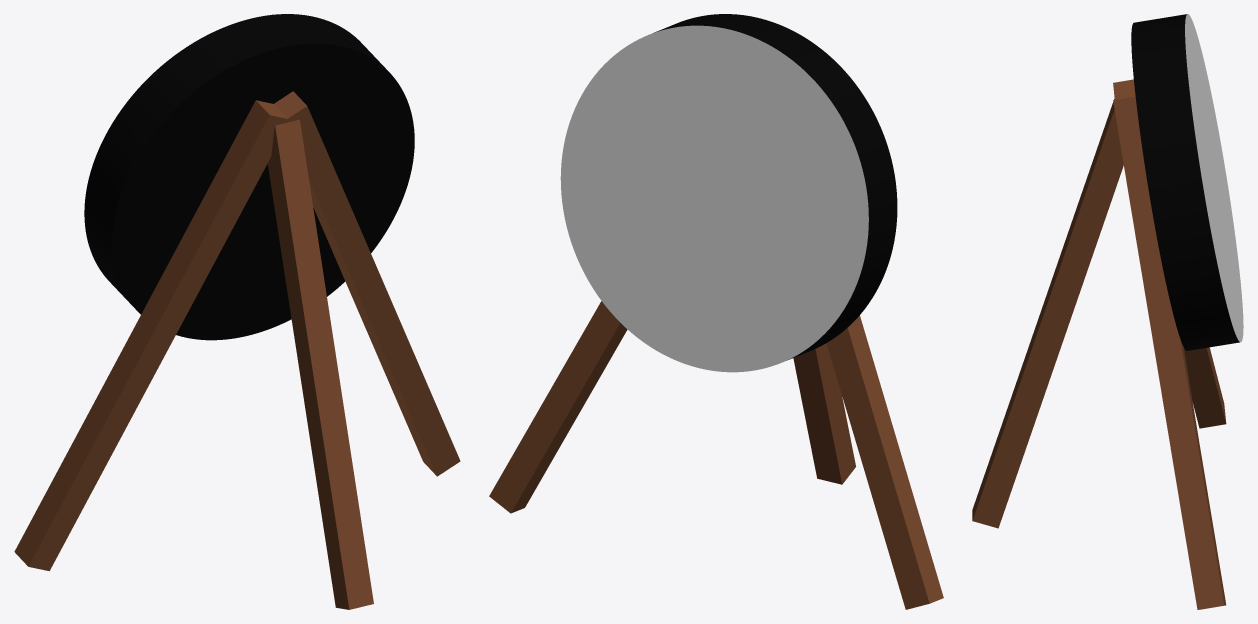
Rendered from target.fbx.
The picture shows the model from 3 angles, left to right: view 1: azimuth 30°, elevation 25°; view 2: azimuth 150°, elevation 25°; view 3: azimuth 270°, elevation 25°; orthographic projection. The views are drawn at different scales.
Parts seen in each view (by area): view 1: Target; view 2: Target; view 3: Target.
Boxes of the visible parts, <box> form: Target: <box>14,14,460,609</box>; Target: <box>489,14,943,609</box>; Target: <box>972,14,1243,609</box>.
Size of the model in its own units: 351 by 399 by 199.
